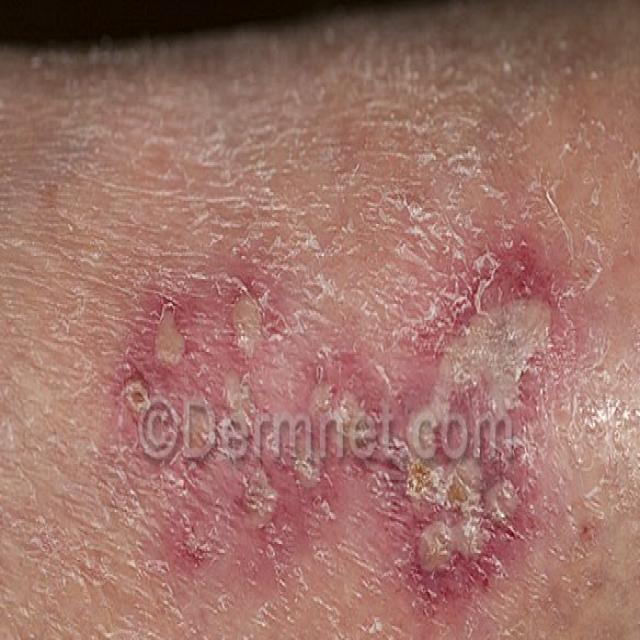Viral Infections: (94, 151, 601, 640)
